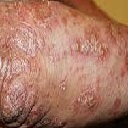Psoriasis: (1, 83, 33, 125), (10, 24, 42, 61), (77, 31, 108, 57), (1, 61, 31, 80), (80, 89, 97, 110)
